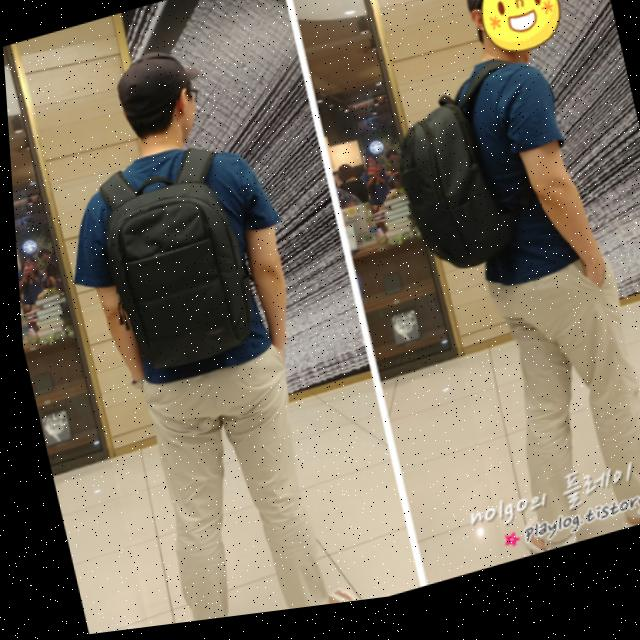backpack: (69, 141, 283, 399), (375, 70, 559, 307)
